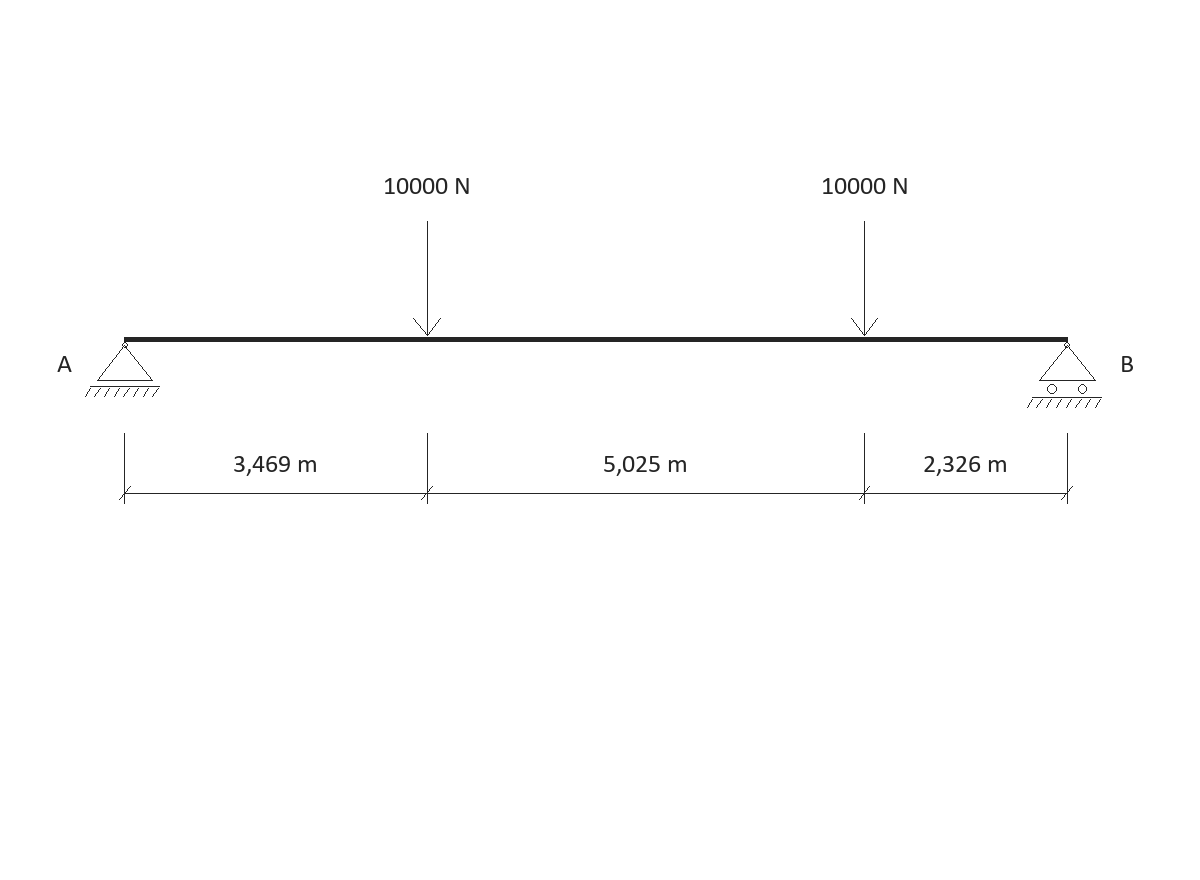pin_support: (85, 342, 160, 397)
point_load: (413, 221, 441, 336), (851, 221, 878, 336)
roller_support: (1027, 342, 1102, 408)
